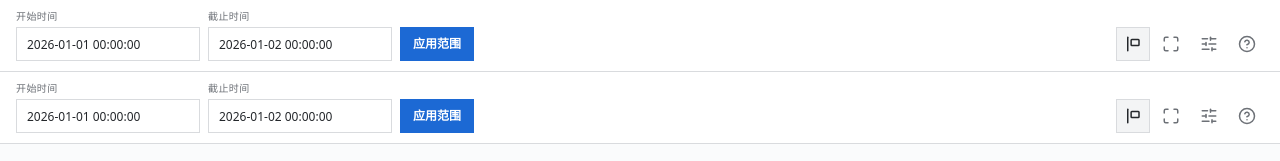
Test: TimeRangeControls › uses distinct described-by targets for errors in multiple instances
Replace the text in the 1st field labelled "截止时间" with "2026-01-01T00:00:30" at (300, 44), box [209, 28, 391, 60]
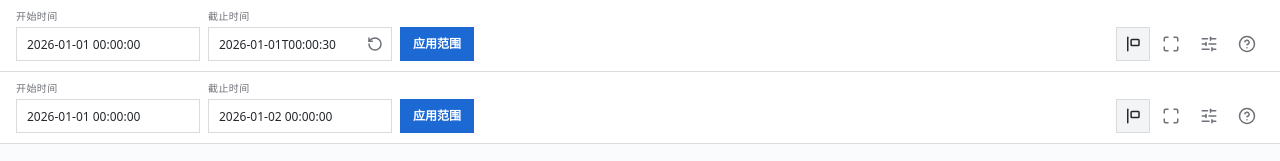
Clear the 2nd field labelled "截止时间" at (300, 116), box [209, 100, 391, 132]
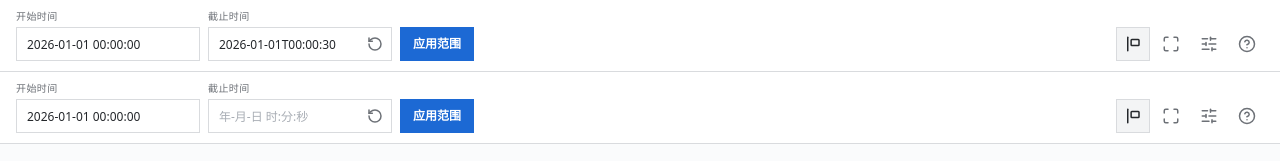
Click the 1st button "应用范围" at (437, 44), box [400, 27, 474, 61]
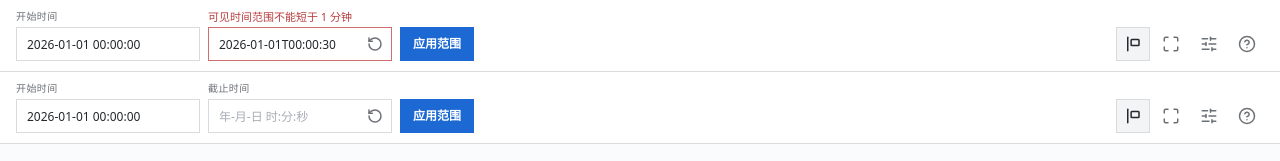
Click the button "应用范围" below "截止时间" at (437, 116), box [400, 99, 474, 133]
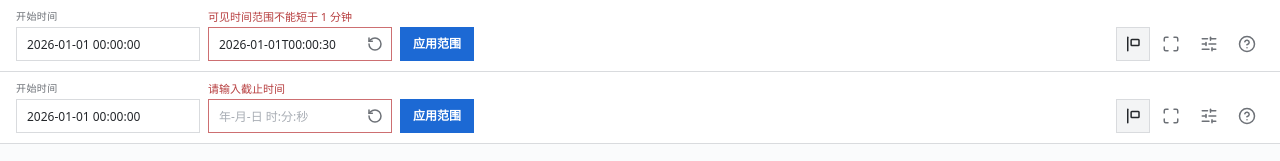
Check: the message "可见时间范围不能短于 1 分钟" is shown, box [208, 10, 352, 23]
Check: the message "请输入截止时间" is shown, box [208, 82, 285, 95]
